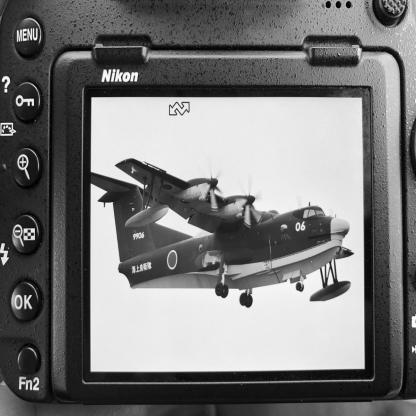US2: (92, 156, 355, 309)
